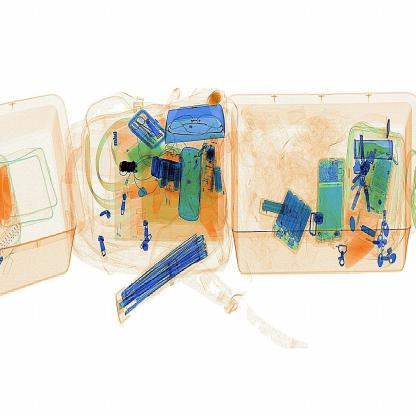scissors: (112, 154, 146, 182)
